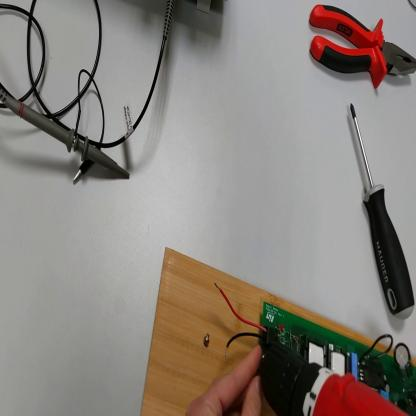electric screwdriver: (260, 340, 408, 416)
hand: (186, 344, 264, 412)
high voltage board: (215, 283, 416, 416)
oscilloscope: (193, 2, 221, 15)
oscilloscope probe tip: (2, 85, 131, 176)
pliers: (310, 5, 416, 90)
screwdriver-: (351, 104, 414, 322)
working area: (142, 246, 416, 416)
